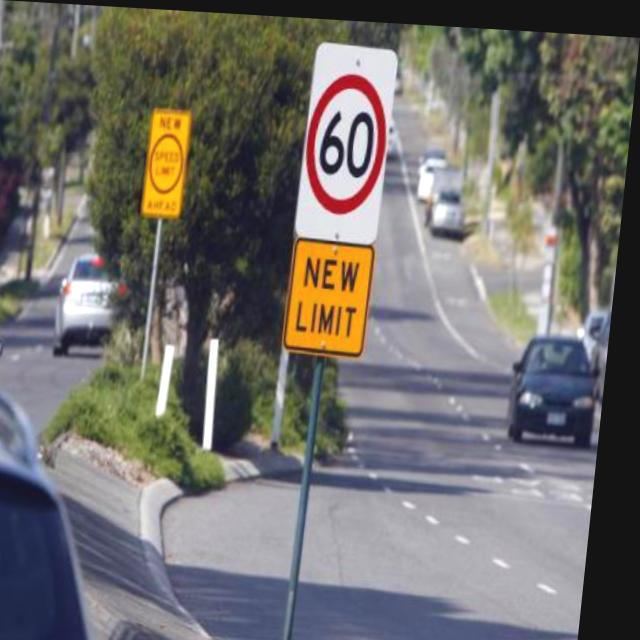limit60: (298, 66, 397, 215)
